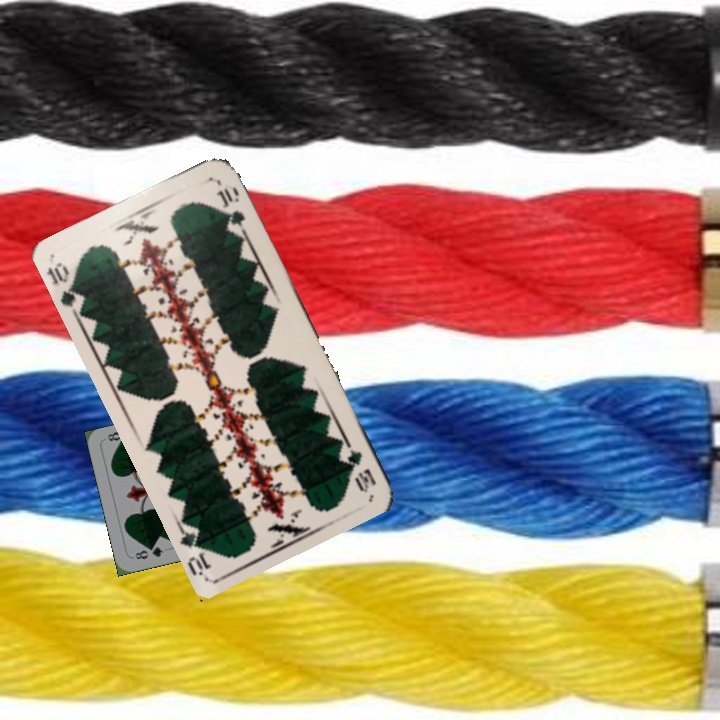G10: (43, 258, 88, 315), (336, 437, 379, 495)
G8: (131, 543, 166, 562)
